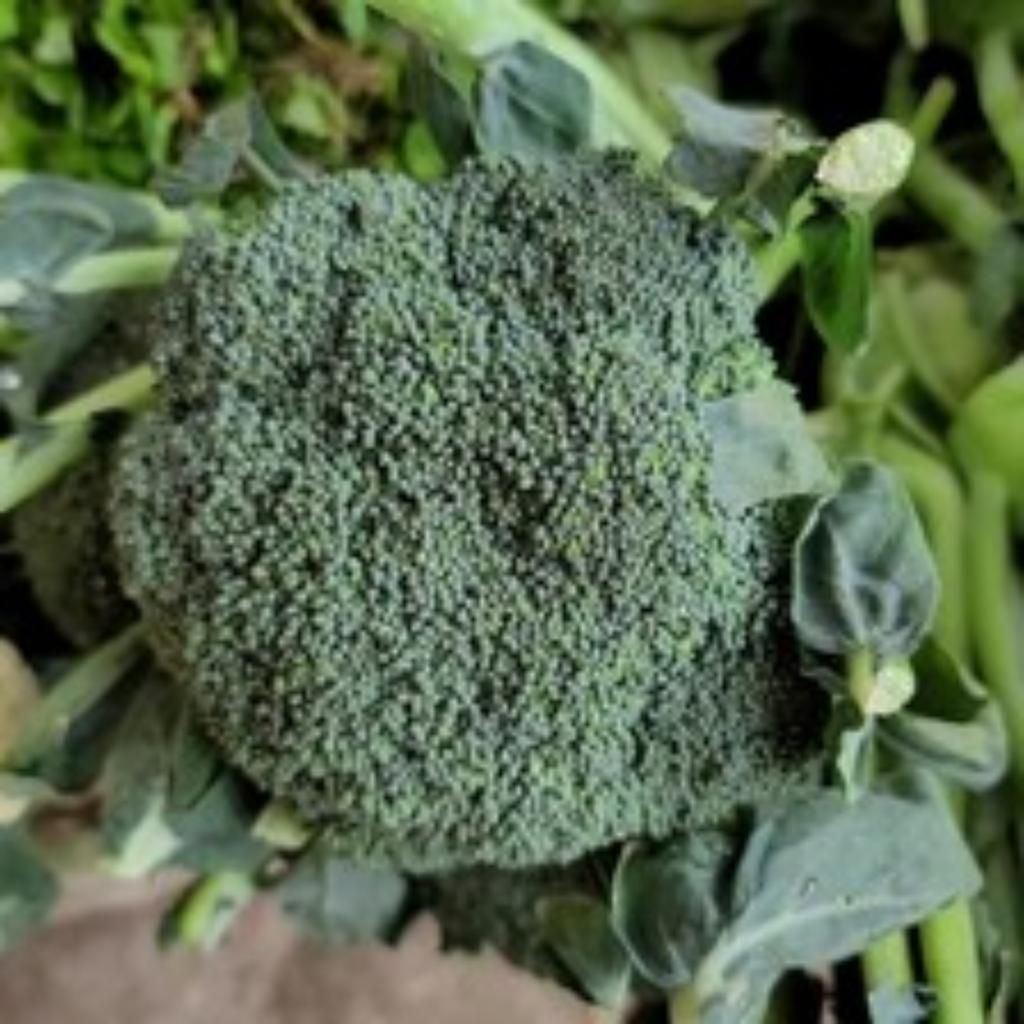Broccoli: (114, 156, 810, 871), (120, 160, 804, 869)
